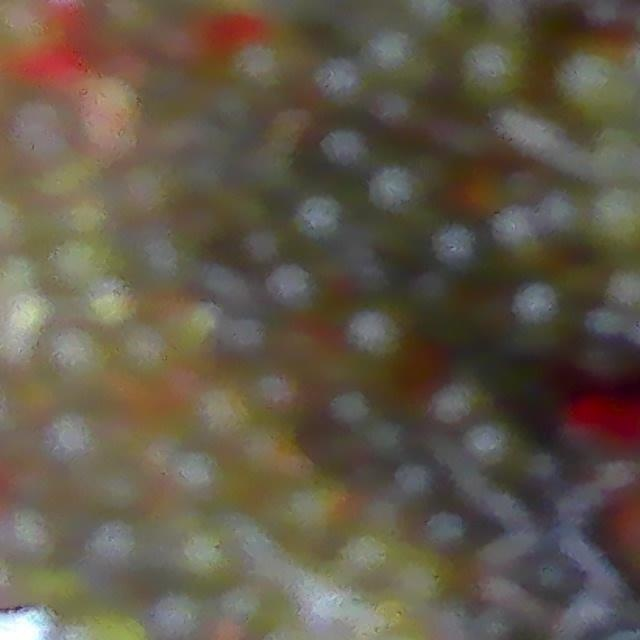SeaGrape: (556, 44, 633, 121), (457, 35, 530, 106)
